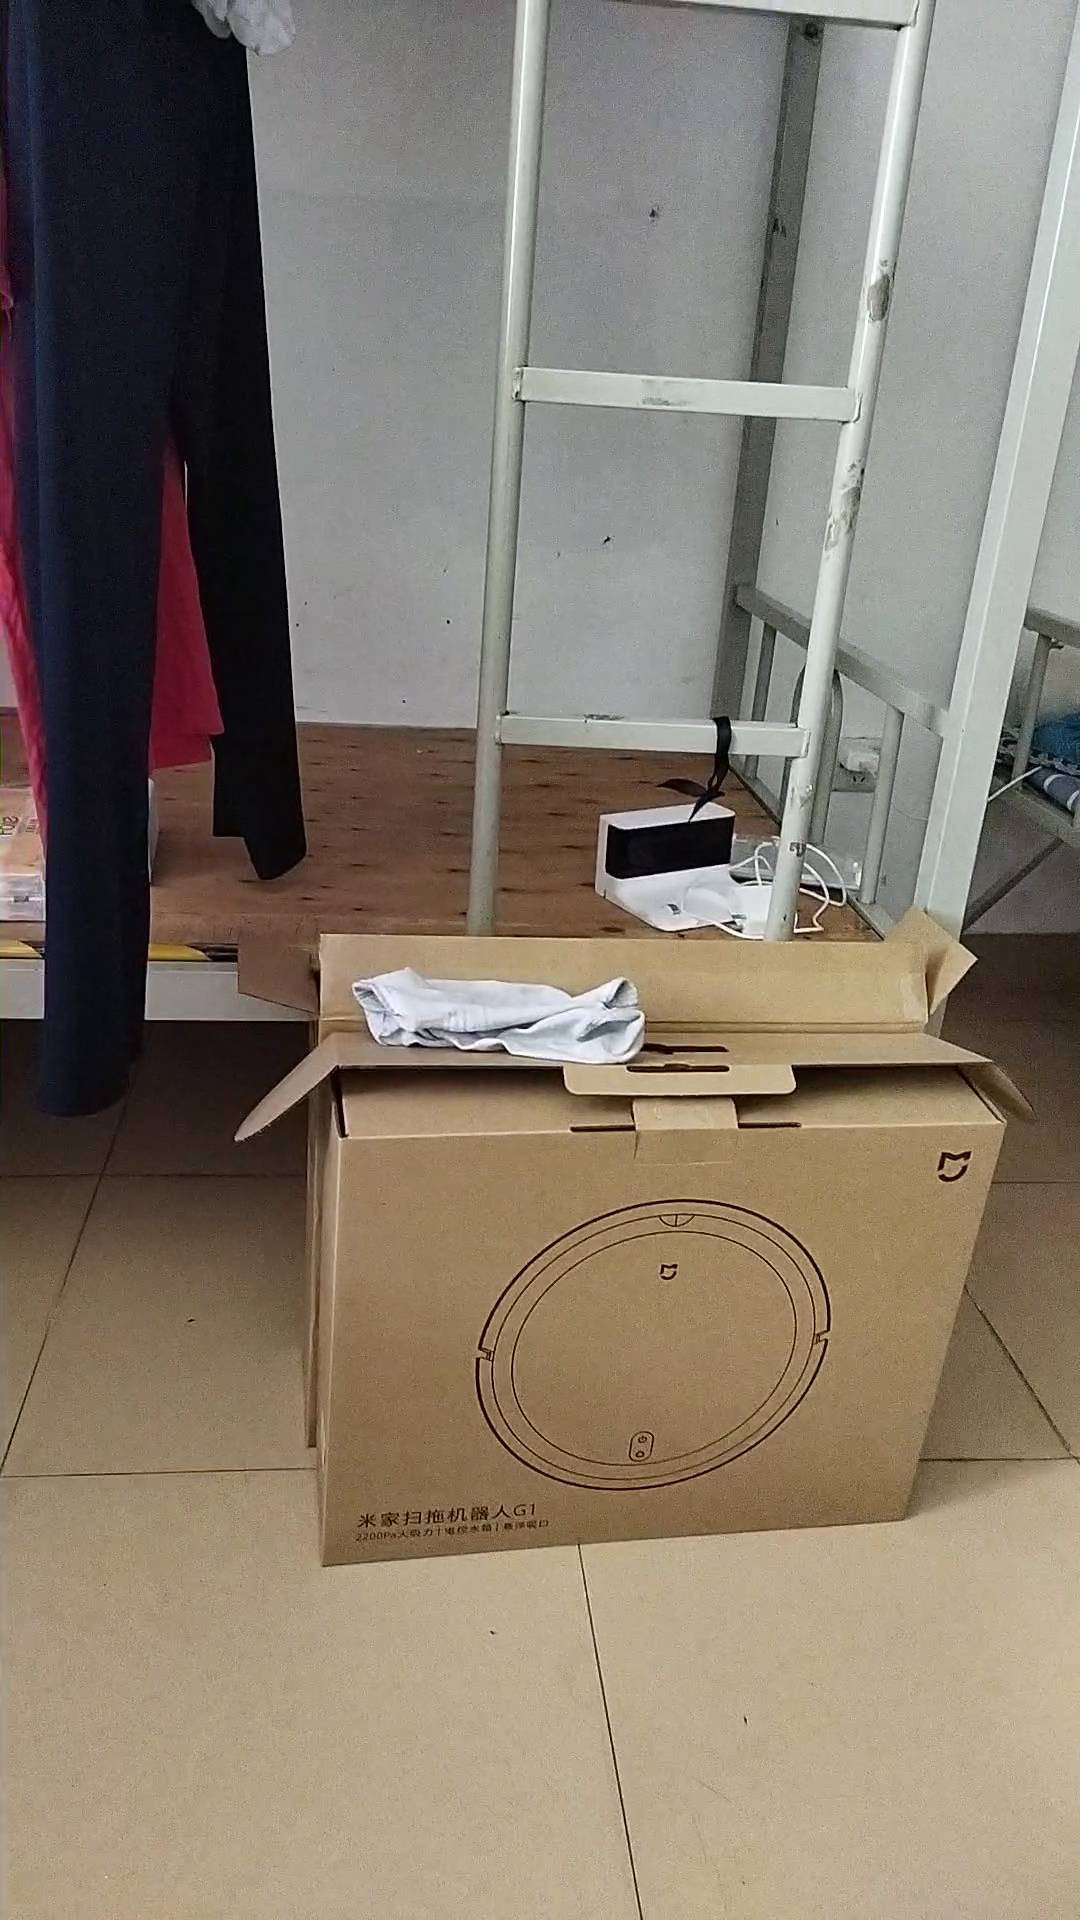recharge seat: (593, 799, 757, 936)
